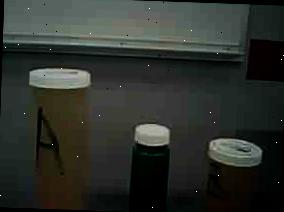Bottle A: (15, 59, 112, 211)
Bottle B: (192, 129, 271, 212)
Bottle C: (122, 117, 178, 212)
